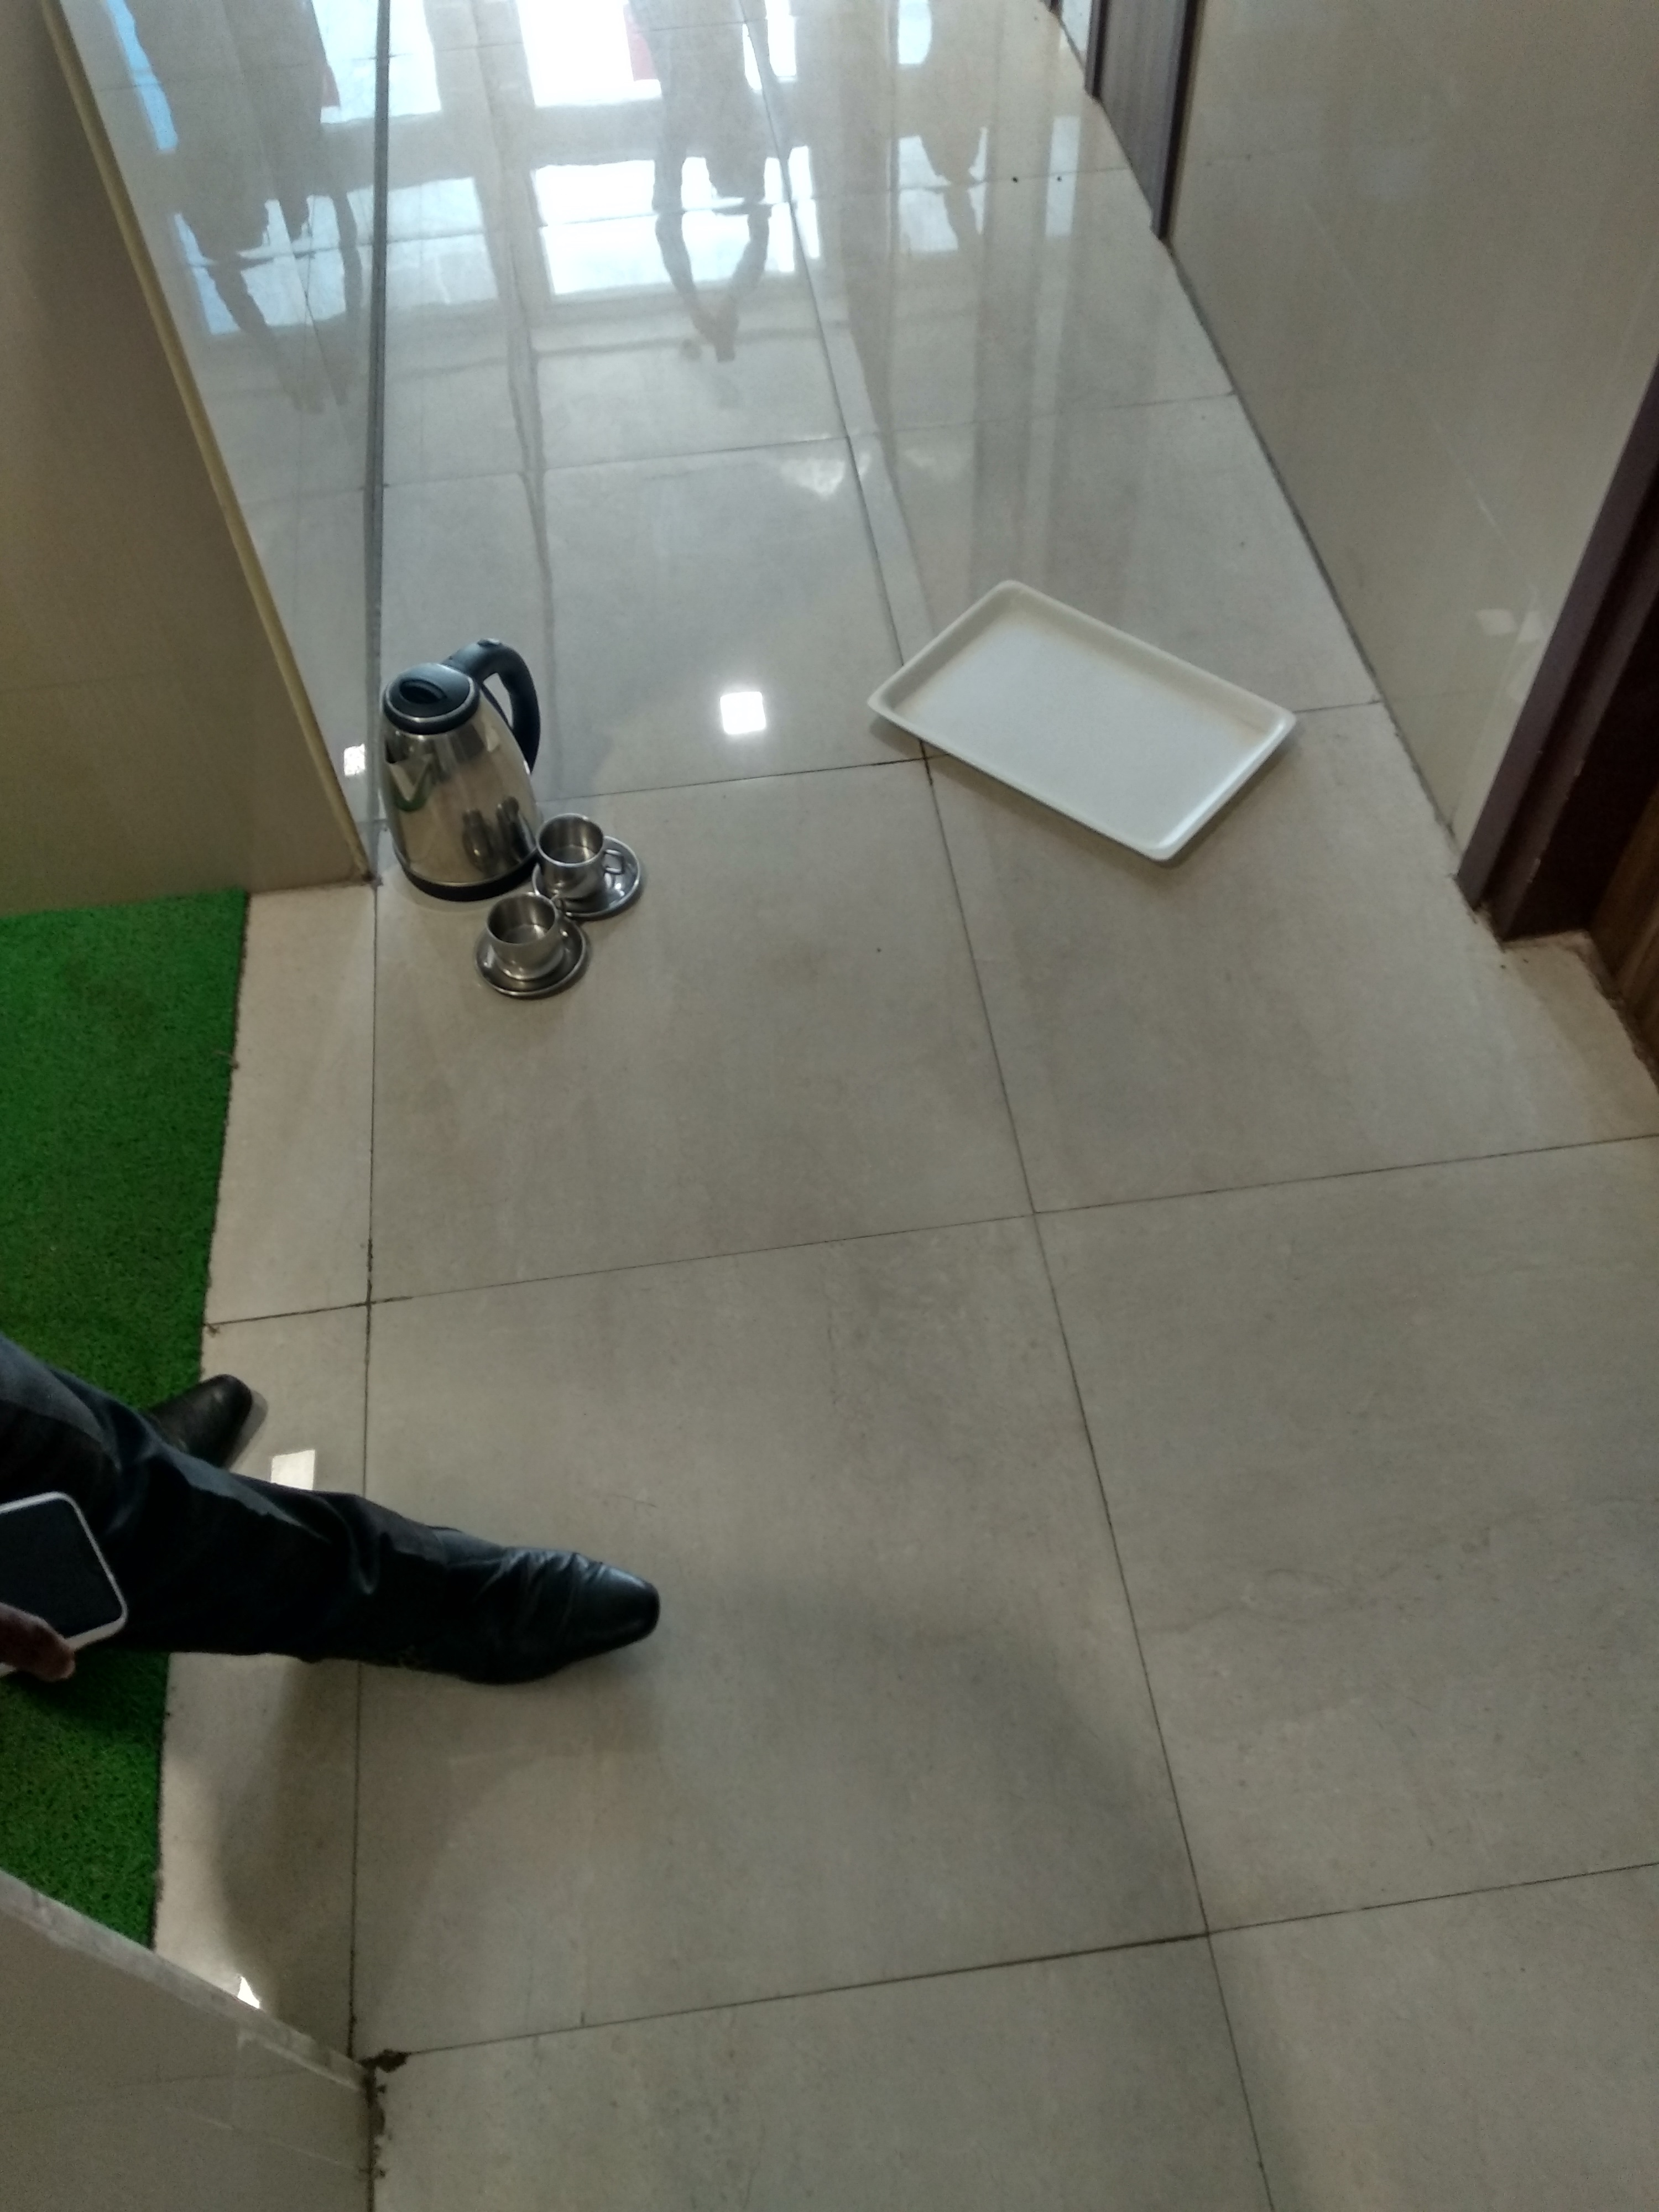CUP: (538, 817, 631, 897), (488, 892, 563, 972)
JUG: (371, 644, 537, 864)
